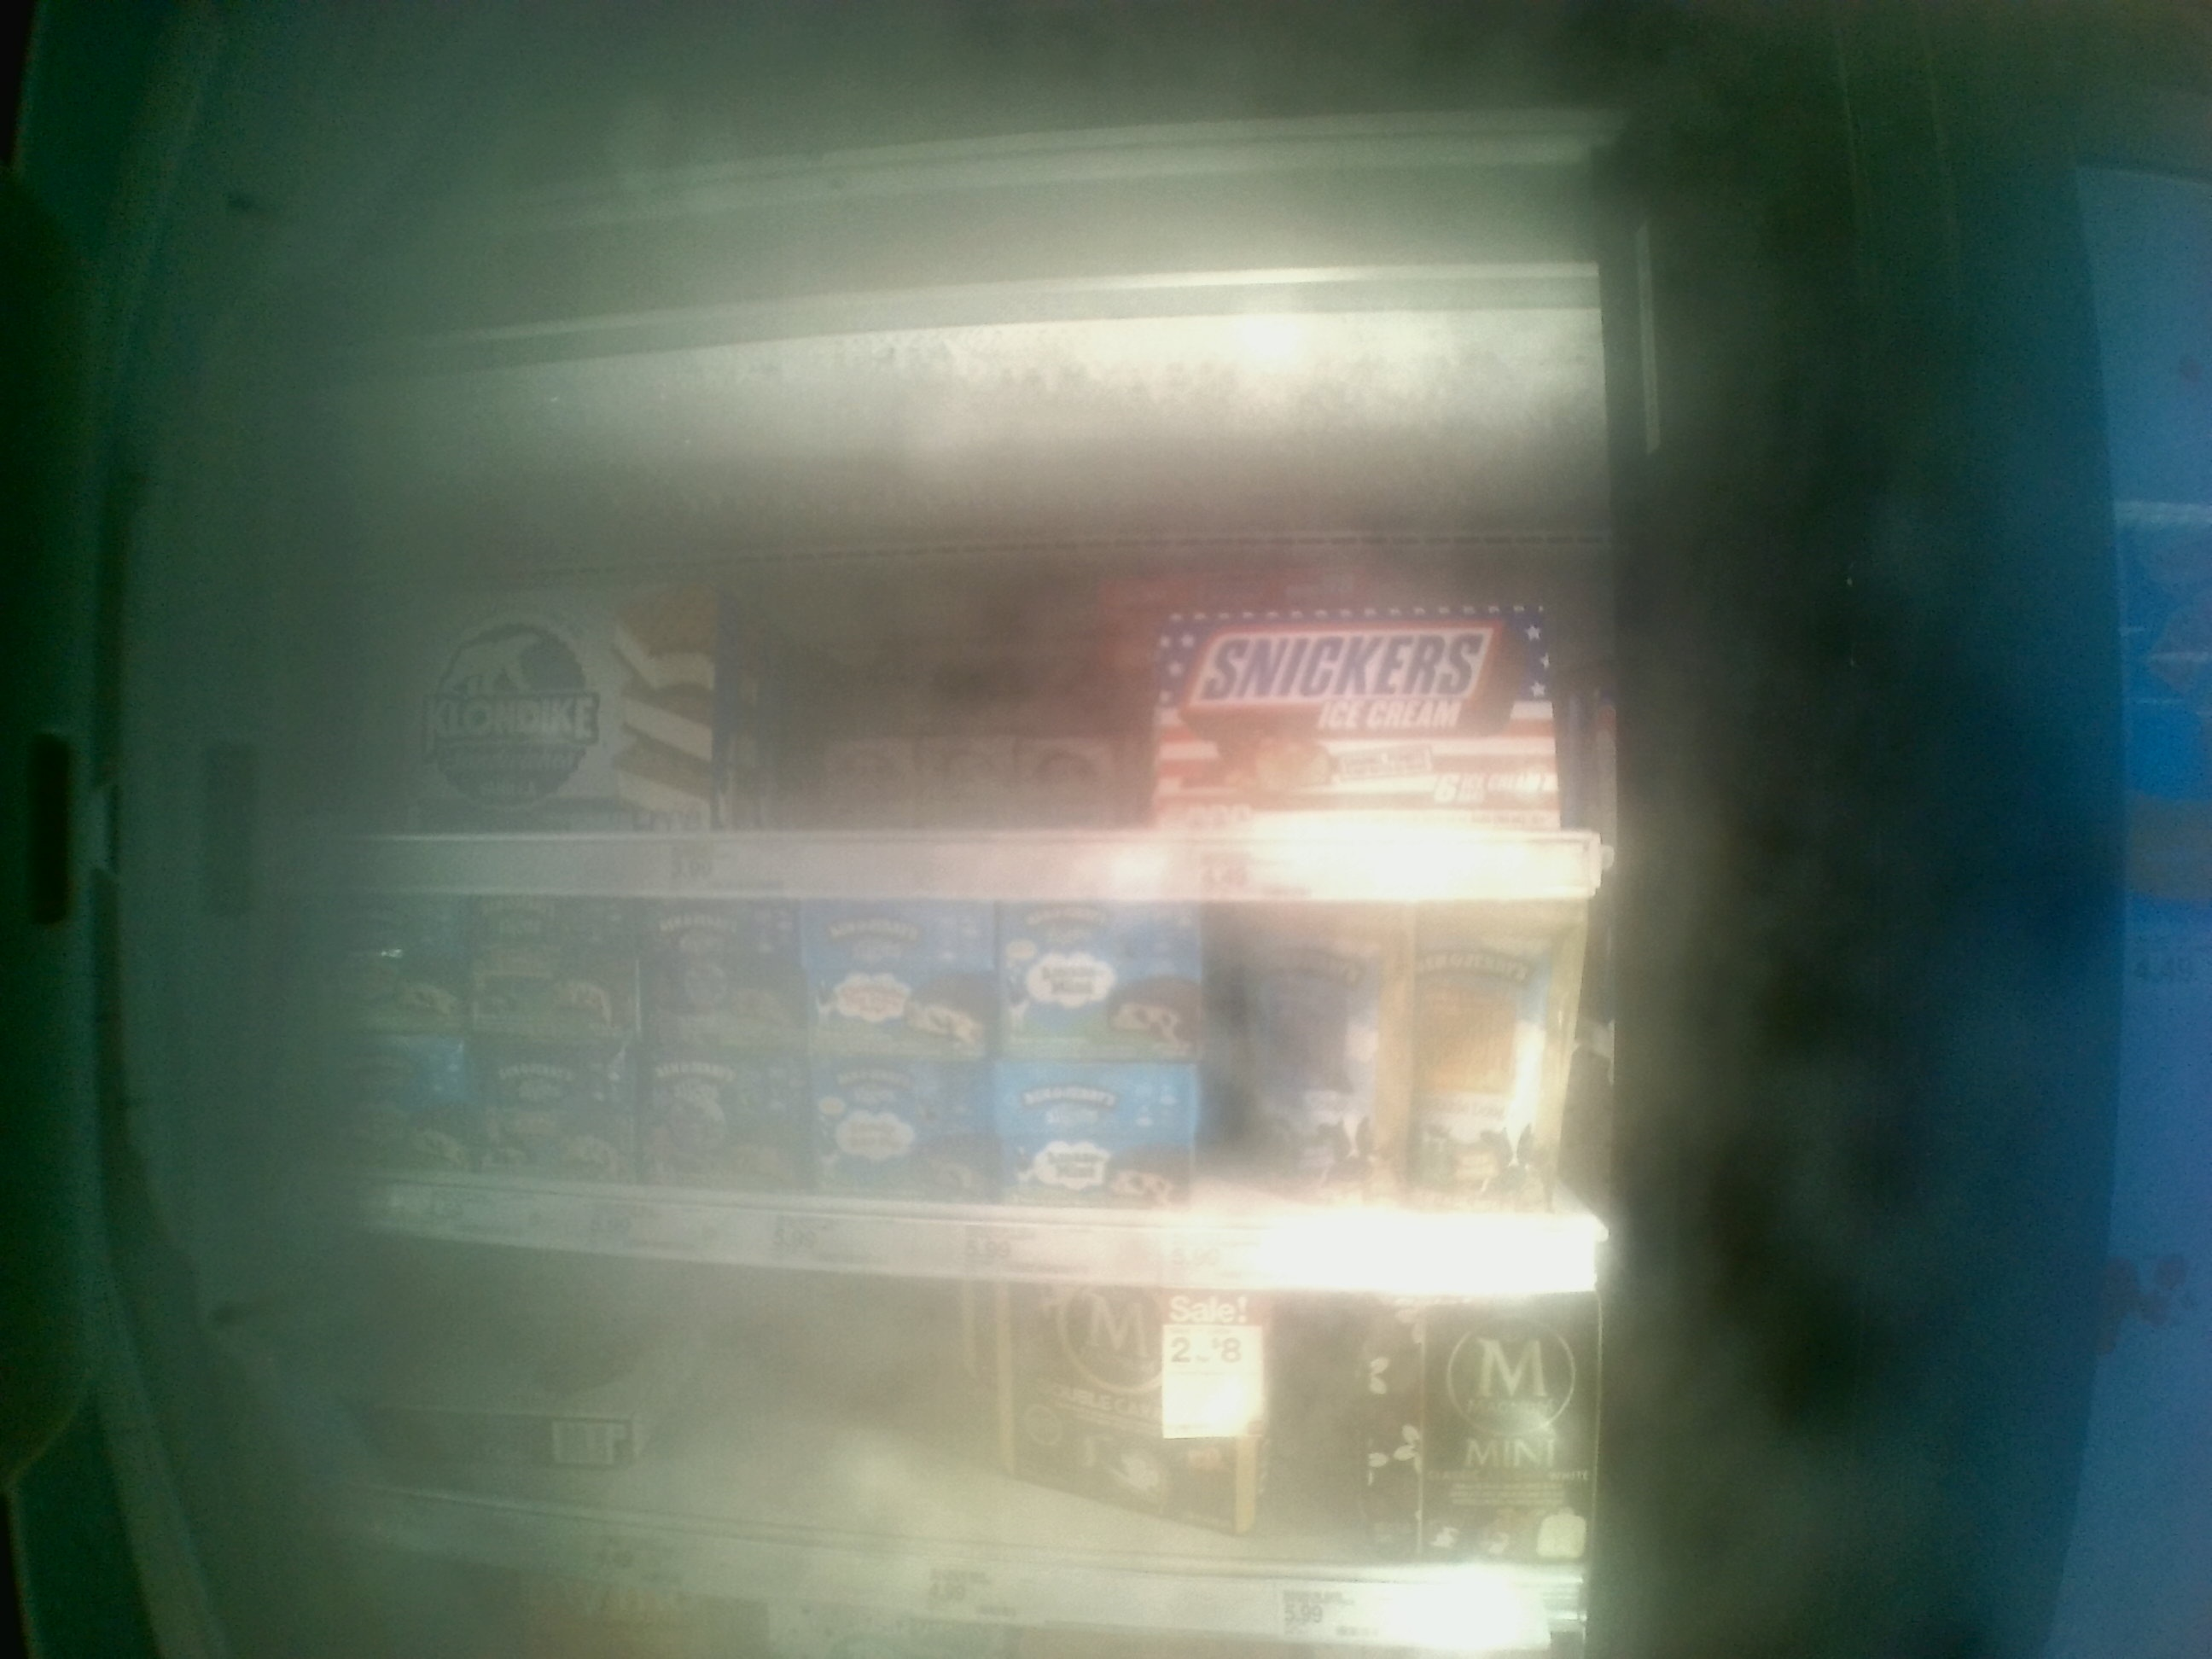shelf: (324, 455, 1609, 899), (324, 910, 1601, 1303)
